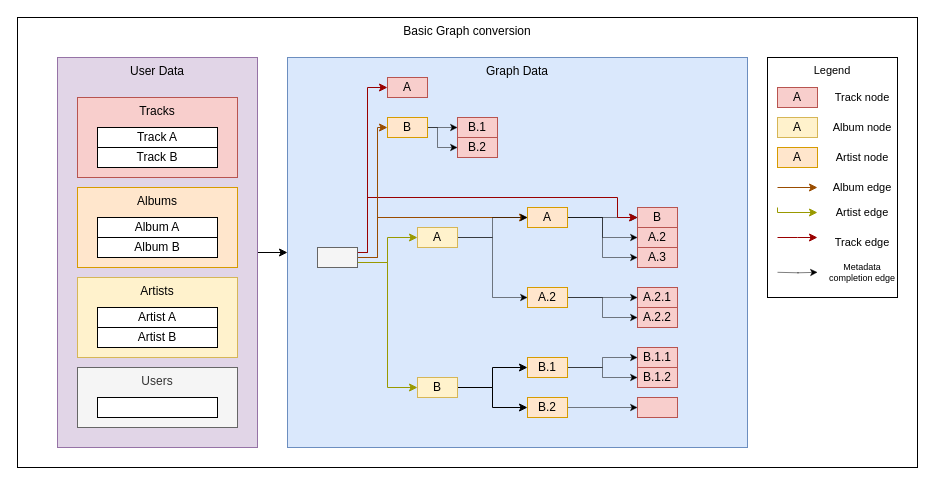
Some shapes in this 935 by 485 pixel diagram are drawn without their labels. Here are the shapes that lost their labels. From the top down, the centre of each, then its label:
At [337,257]: "You".
At [157,407]: "User A".
At [657,407]: "B.2.1".
